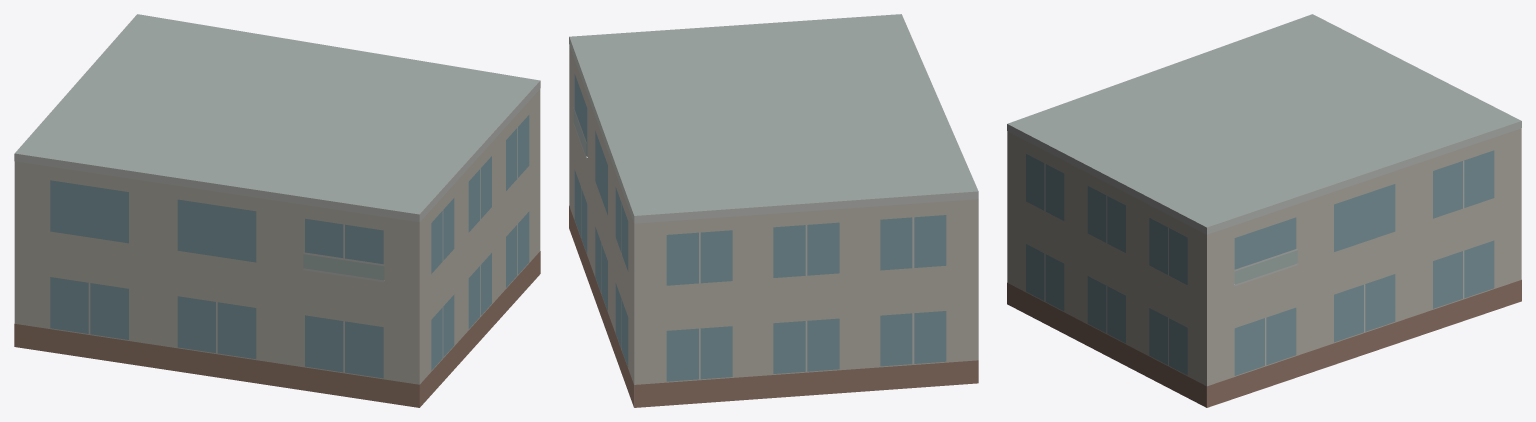
Rendered from survey-upis-32849195.glb.
The picture shows the model from 3 angles, left to right: view 1: azimuth 30°, elevation 25°; view 2: azimuth 150°, elevation 25°; view 3: azimuth 270°, elevation 25°; orthographic projection. The views are drawn at different scales.
Parts seen in each view (by area): view 1: survey-upis-32849195.tmp; view 2: survey-upis-32849195.tmp; view 3: survey-upis-32849195.tmp.
Part boxes in pixels (box(x1,y1,x2,y2)): survey-upis-32849195.tmp: box(14, 14, 540, 407); survey-upis-32849195.tmp: box(569, 14, 978, 407); survey-upis-32849195.tmp: box(1007, 14, 1521, 407).
Bounding box in the file's own units: 15.5 × 6.1 × 15.79.
